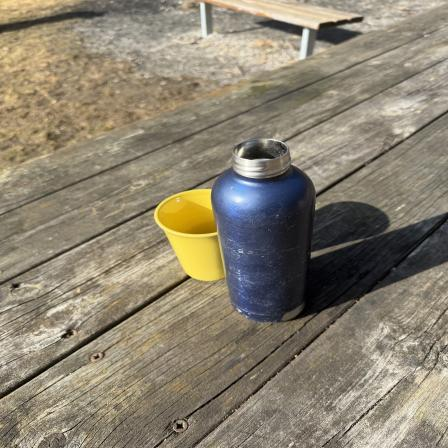blue_bottle: (212, 138, 318, 320)
yellow_cup: (156, 189, 224, 281)
